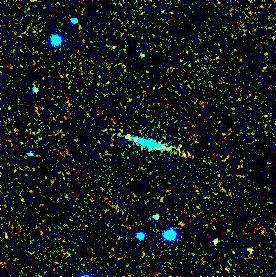star: (116, 121, 146, 151)
